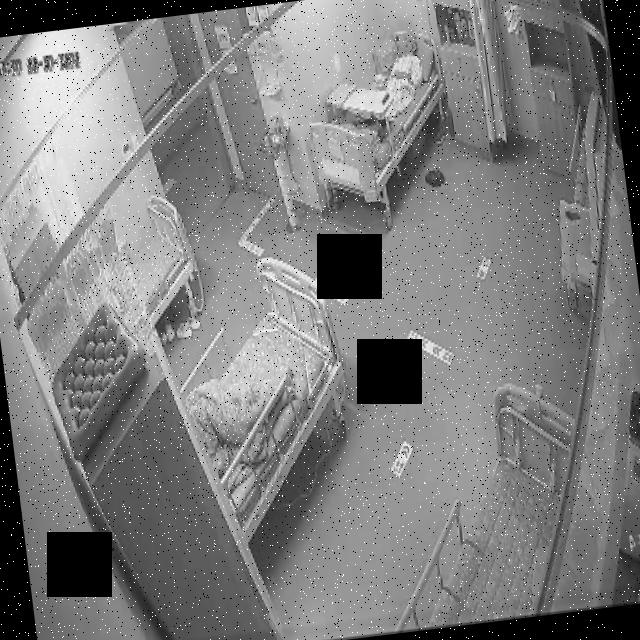bed: (368, 379, 600, 633), (174, 252, 363, 544), (298, 26, 462, 210), (122, 191, 200, 329)
lie: (376, 28, 429, 117)
patient: (378, 30, 429, 119)
